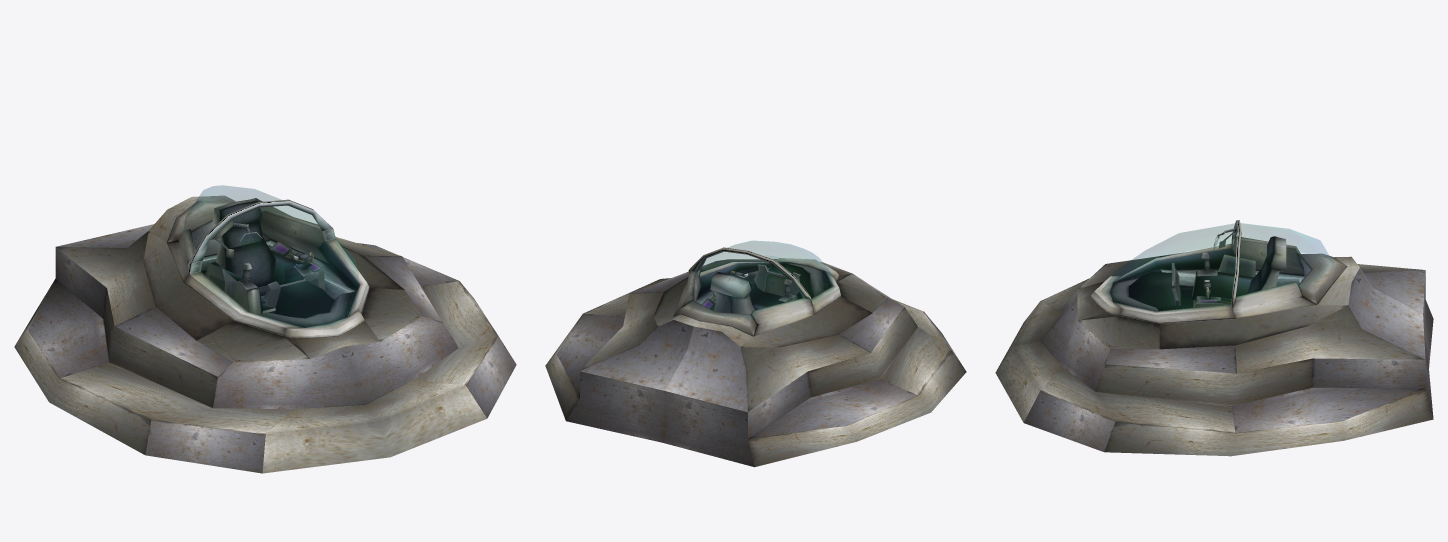
File: ufo.dae
3 views of the same model, side by side, from view 1: azimuth 30°, elevation 25°; view 2: azimuth 150°, elevation 25°; view 3: azimuth 270°, elevation 25° (orthographic). The views are drawn at different scales.
Parts seen in each view (by area): view 1: Box04, Object01, Plane03; view 2: Box04, Object01; view 3: Box04, Object01.
Part boxes in pixels (<box>): Box04: <box>14,195,516,473</box>; Object01: <box>184,185,358,327</box>; Plane03: <box>241,234,322,285</box>; Box04: <box>545,247,966,467</box>; Object01: <box>686,241,833,317</box>; Box04: <box>995,220,1433,456</box>; Object01: <box>1102,223,1333,311</box>.
Bounding box in the file's own units: 5.32 × 6.62 × 5.18.
